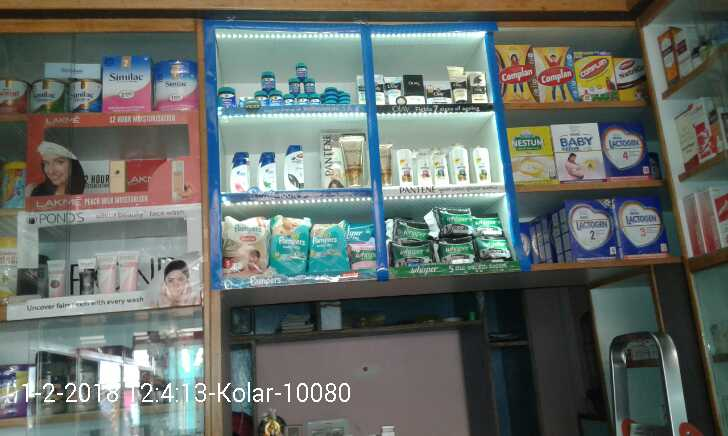beauty: (317, 130, 345, 189), (342, 131, 363, 186), (452, 140, 470, 184), (430, 149, 449, 187), (403, 74, 426, 105), (477, 147, 495, 184), (471, 71, 490, 104), (415, 149, 432, 185), (426, 83, 452, 105), (380, 143, 393, 185), (397, 148, 411, 185), (384, 74, 401, 104), (452, 75, 468, 104)
pharmacy: (222, 217, 272, 275), (272, 214, 310, 277), (310, 223, 348, 276), (389, 243, 435, 269), (435, 208, 470, 239), (393, 218, 430, 243), (350, 240, 378, 271), (438, 241, 477, 263), (476, 239, 510, 261), (473, 215, 503, 237), (322, 85, 350, 105), (215, 87, 236, 107), (259, 70, 278, 90), (268, 90, 284, 107), (254, 91, 268, 107), (287, 77, 300, 92), (295, 64, 307, 78), (303, 77, 314, 92), (283, 92, 294, 104), (308, 94, 321, 103), (296, 93, 308, 102)
